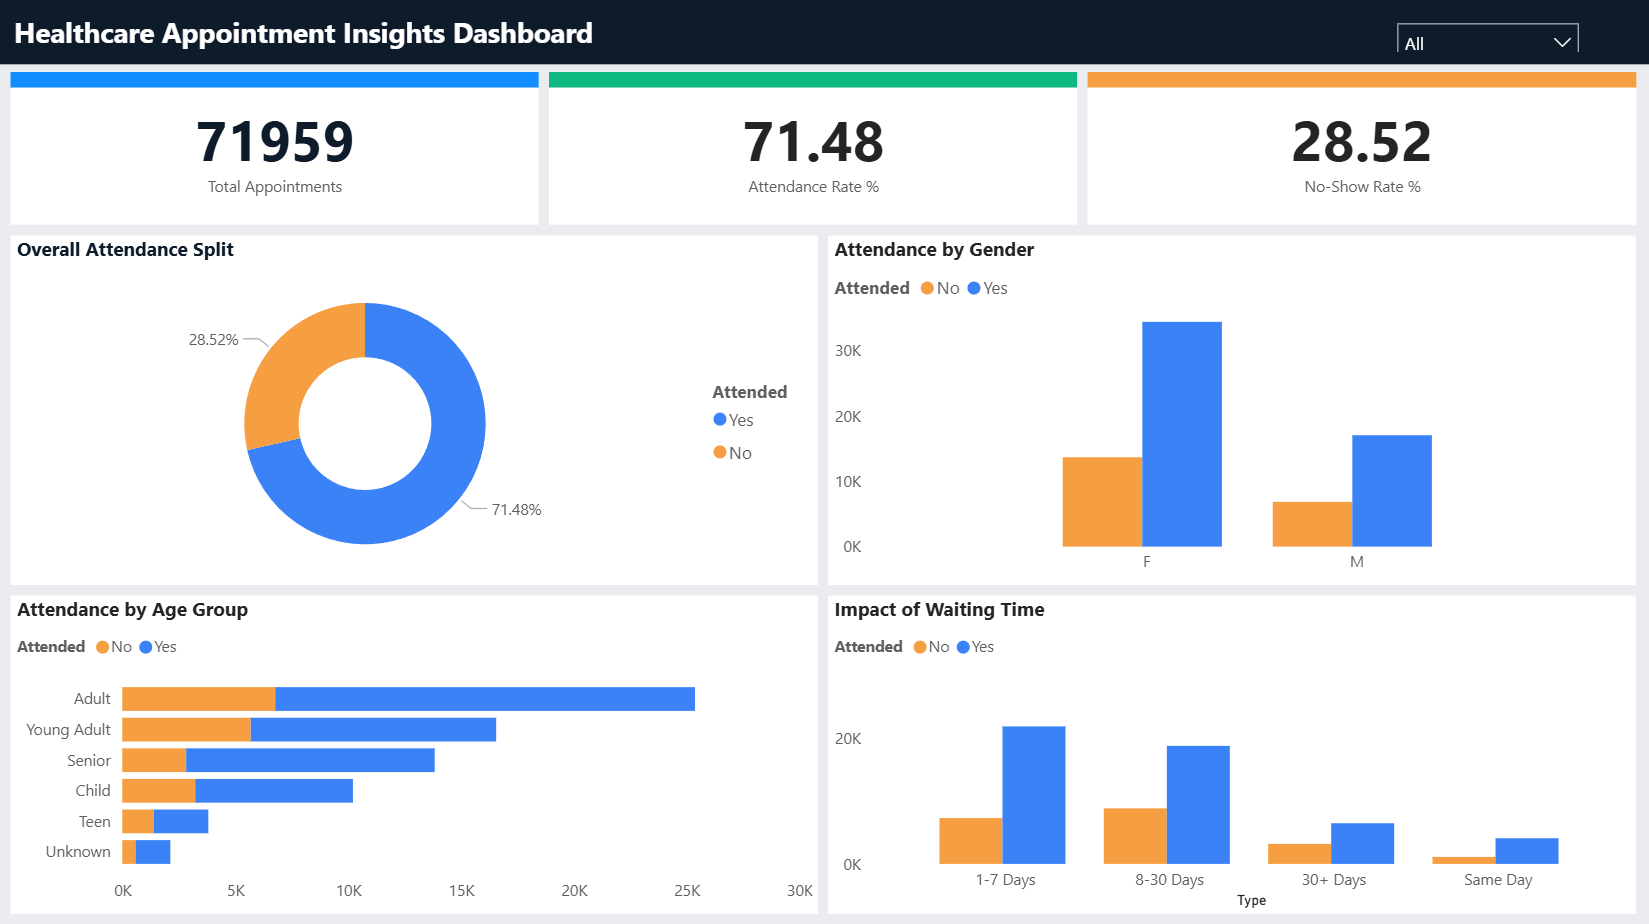

What the dashboard file says about the page in this screenshot:
{"tool":"powerbi","page":{"name":"Page 1","canvas":[1280,720],"ordinal":0},"visuals":[{"type":"shape","box":[0,0,1280.4,52],"z":0},{"type":"textbox","box":[0,7,1280.4,45.2],"z":1000},{"type":"slicer","fields":{"Values":["Sheet1.Type"]},"box":[1070,10,160,32],"z":4000},{"type":"card","fields":{"Values":["Sheet1.Total Appointments"]},"box":[8,58,408,118],"z":5000},{"type":"shape","box":[8,58,408,12],"z":6000},{"type":"card","fields":{"Values":["Sheet1.Attendance Rate %"]},"box":[424,58,408,118],"z":7000},{"type":"card","fields":{"Values":["Sheet1.No-Show Rate %"]},"box":[840,58,424,118],"z":8000},{"type":"shape","box":[424,58,408,12],"z":9000},{"type":"shape","box":[840,58,424,12],"z":10000},{"type":"donutChart","title":"Overall Attendance Split","fields":{"Category":["Sheet1.Attended"],"Y":["Sum(Sheet1.Count)"]},"box":[8,184,624,270],"z":11000},{"type":"clusteredColumnChart","title":"Attendance by Gender","fields":{"Category":["Sheet1.Type"],"Y":["Sum(Sheet1.Count)"],"Series":["Sheet1.Attended"]},"box":[640,184,624,270],"z":12000},{"type":"barChart","title":" Attendance by Age Group","fields":{"Category":["Sheet1.Type"],"Y":["Sum(Sheet1.Count)"],"Series":["Sheet1.Attended"]},"box":[8,462,624,246],"z":13000},{"type":"clusteredColumnChart","title":" Impact of Waiting Time","fields":{"Category":["Sheet1.Type"],"Y":["Sum(Sheet1.Count)"],"Series":["Sheet1.Attended"]},"box":[640,462,624,246],"z":14000}]}

Visuals, with their boxes in screenshot pixels (x1, y1, x2, y2), scaled from the page's 1280x720 canvas onto the 1649x924 screenshot:
shape: 0 0 1648 67
textbox: 0 9 1648 67
slicer - Sheet1.Type: 1378 13 1585 54
card - Sheet1.Total Appointments: 10 74 536 226
shape: 10 74 536 90
card - Sheet1.Attendance Rate %: 546 74 1072 226
card - Sheet1.No-Show Rate %: 1082 74 1628 226
shape: 546 74 1072 90
shape: 1082 74 1628 90
"Overall Attendance Split" donutChart: 10 236 814 583
"Attendance by Gender" clusteredColumnChart: 824 236 1628 583
" Attendance by Age Group" barChart: 10 593 814 909
" Impact of Waiting Time" clusteredColumnChart: 824 593 1628 909
